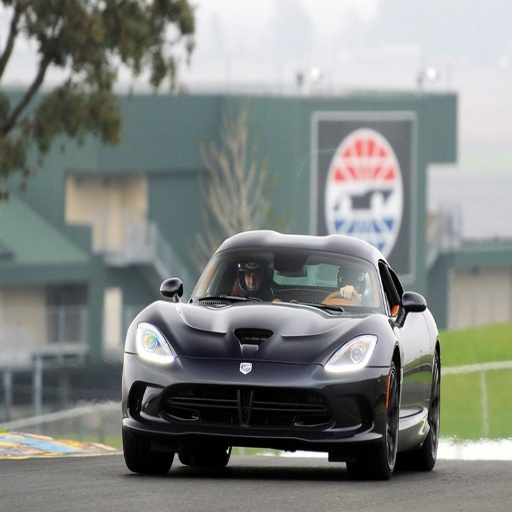front_bumper: (124, 331, 394, 443)
front_glass: (181, 239, 387, 315)
front_left_door: (388, 298, 423, 364)
front_right_light: (128, 322, 175, 363)
trunk: (368, 111, 427, 170), (282, 110, 344, 162)
